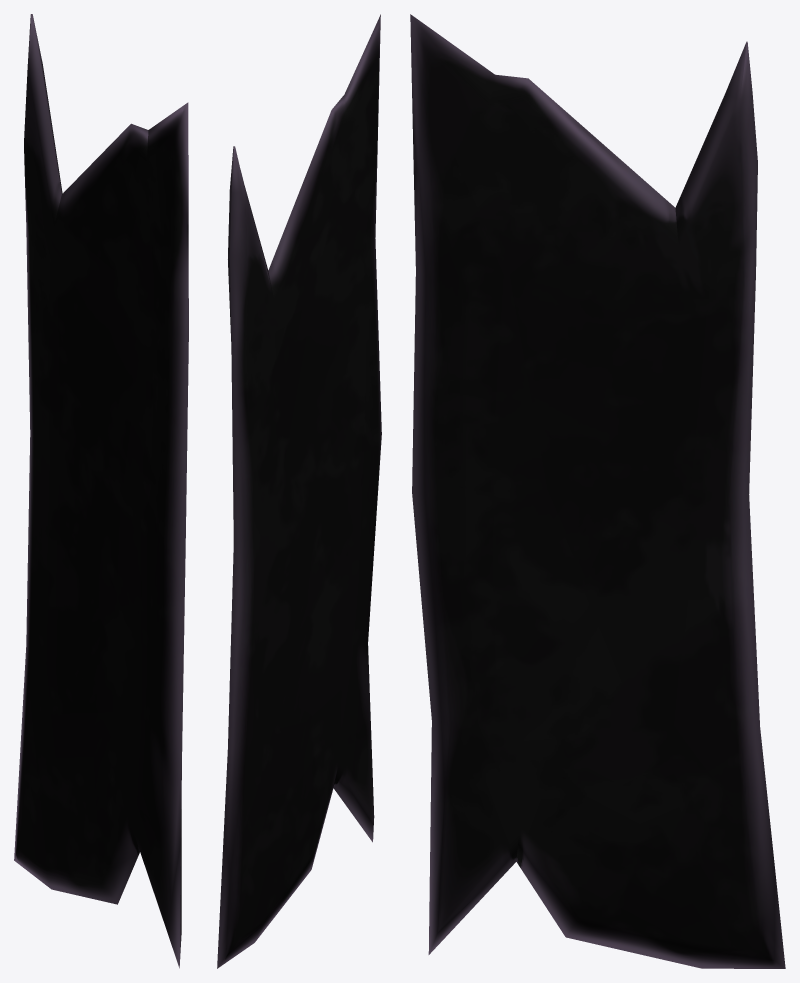
File: Plank_Rubble.fbx
3 views of the same model, side by side, from view 1: azimuth 30°, elevation 25°; view 2: azimuth 150°, elevation 25°; view 3: azimuth 270°, elevation 25° (orthographic). The views are drawn at different scales.
Visible parts, largest first — view 1: Plank1_LowPoly; view 2: Plank1_LowPoly; view 3: Plank1_LowPoly.
Part boxes in pixels (x1,y1,x2,y2): Plank1_LowPoly: (14,14,188,968); Plank1_LowPoly: (217,14,381,968); Plank1_LowPoly: (410,14,785,968).
Size of the model in its own units: 15.2 by 513 by 183.
